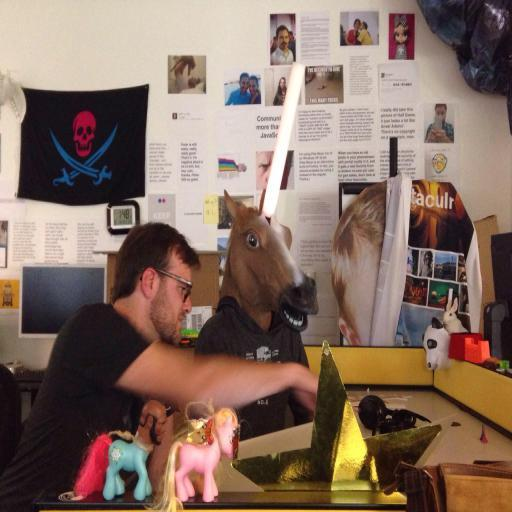Horse: (219, 186, 319, 334), (142, 408, 240, 512), (74, 431, 152, 500)
